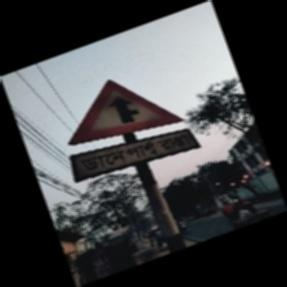Side-road-right: (67, 79, 196, 249)
